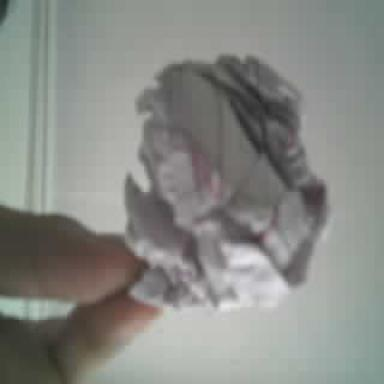paper: (125, 54, 328, 307)
